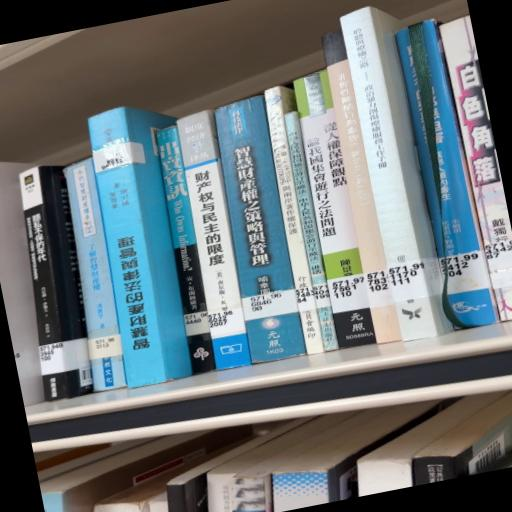reverse: (89, 108, 192, 388)
